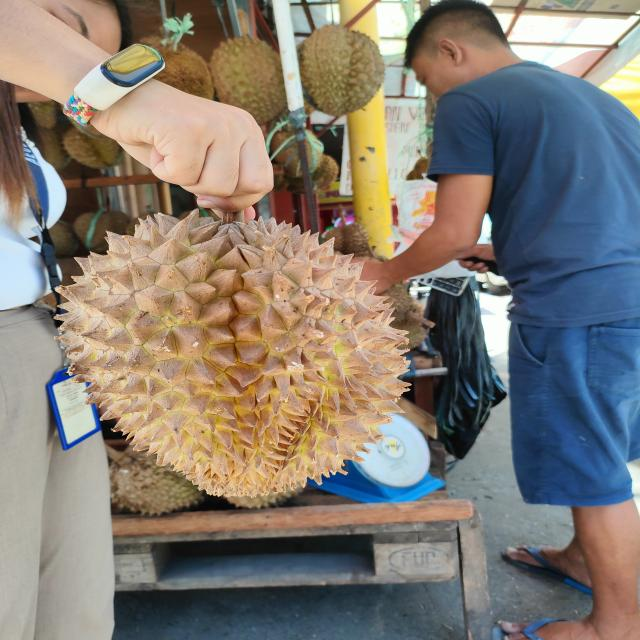mature: (57, 215, 408, 500)
